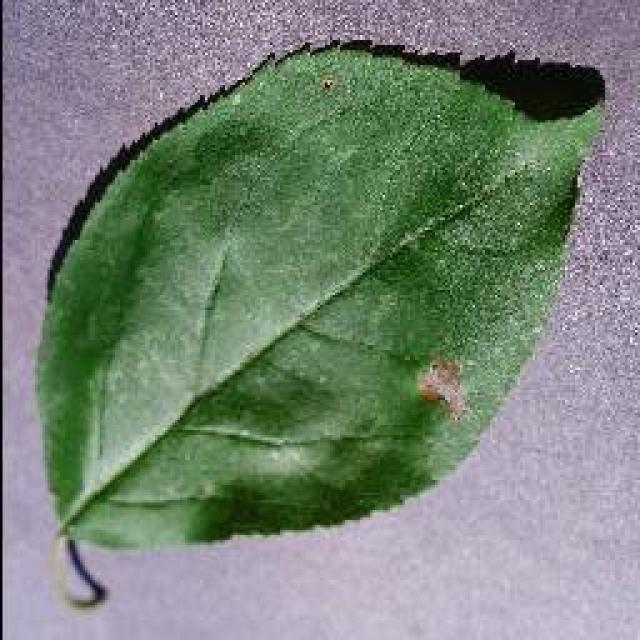apple black rot: (32, 32, 608, 602)
